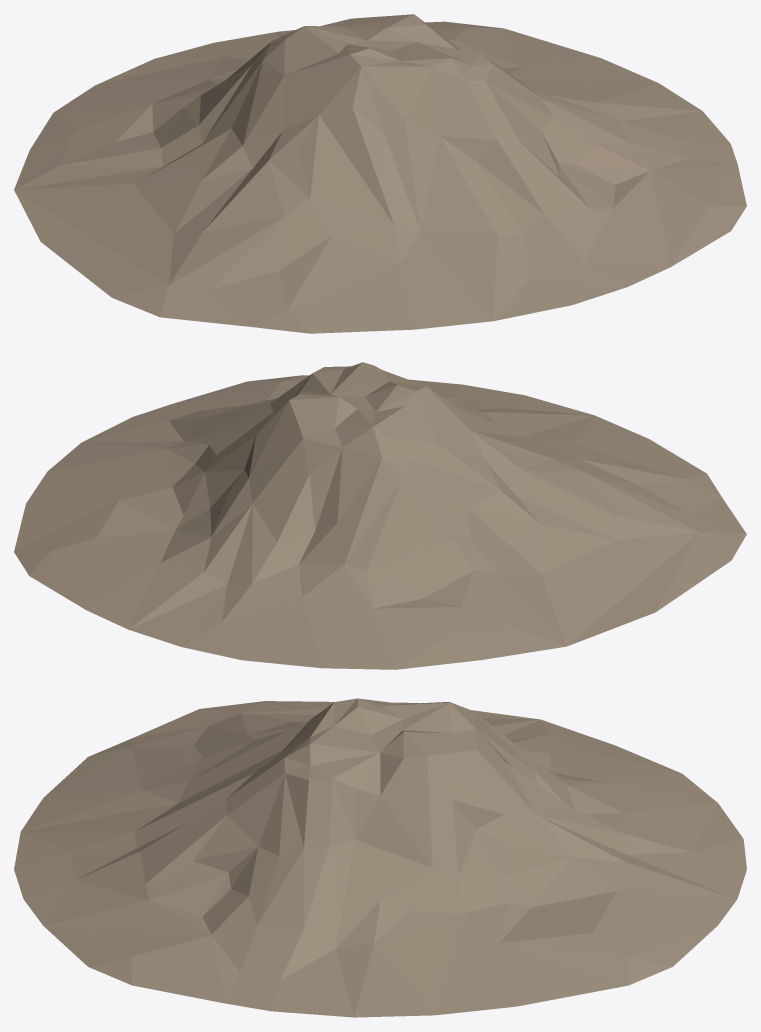
File: SM_Env_Dirt_Pile_01.fbx
The picture shows the model from 3 angles, top to bottom: view 1: azimuth 30°, elevation 25°; view 2: azimuth 150°, elevation 25°; view 3: azimuth 270°, elevation 25°; orthographic projection. The views are drawn at different scales.
Visible parts, largest first — view 1: SM_Env_Dirt_Pile_01; view 2: SM_Env_Dirt_Pile_01; view 3: SM_Env_Dirt_Pile_01.
Part boxes in pixels (x1,y1,x2,y2): SM_Env_Dirt_Pile_01: [14, 14, 746, 333]; SM_Env_Dirt_Pile_01: [14, 362, 746, 669]; SM_Env_Dirt_Pile_01: [14, 698, 746, 1017].
Size of the model in its own units: 1297 by 278 by 1269.
